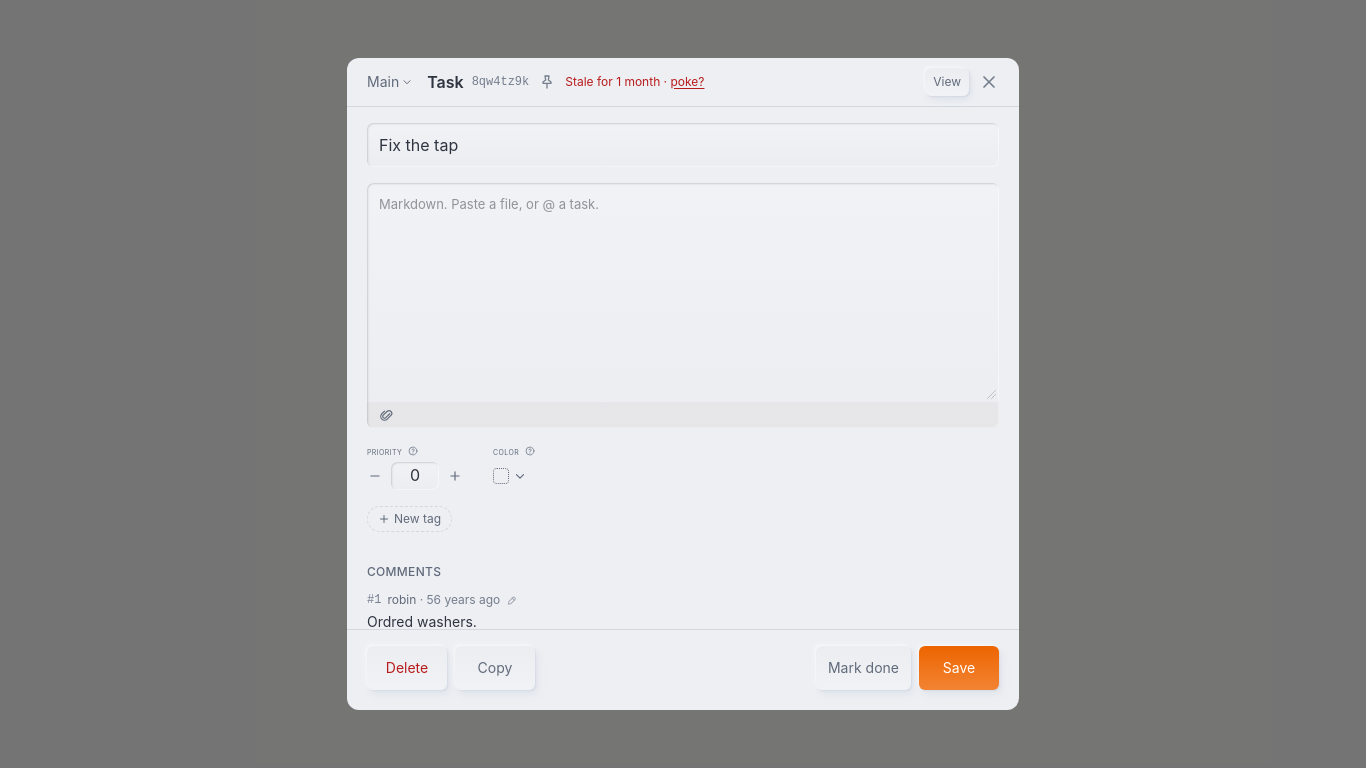
Test case: comments › edits one in a dialog of its own, and shows the new words once saved
Click the button named "Edit comment".
click(512, 600)  # box [506,594,518,606]
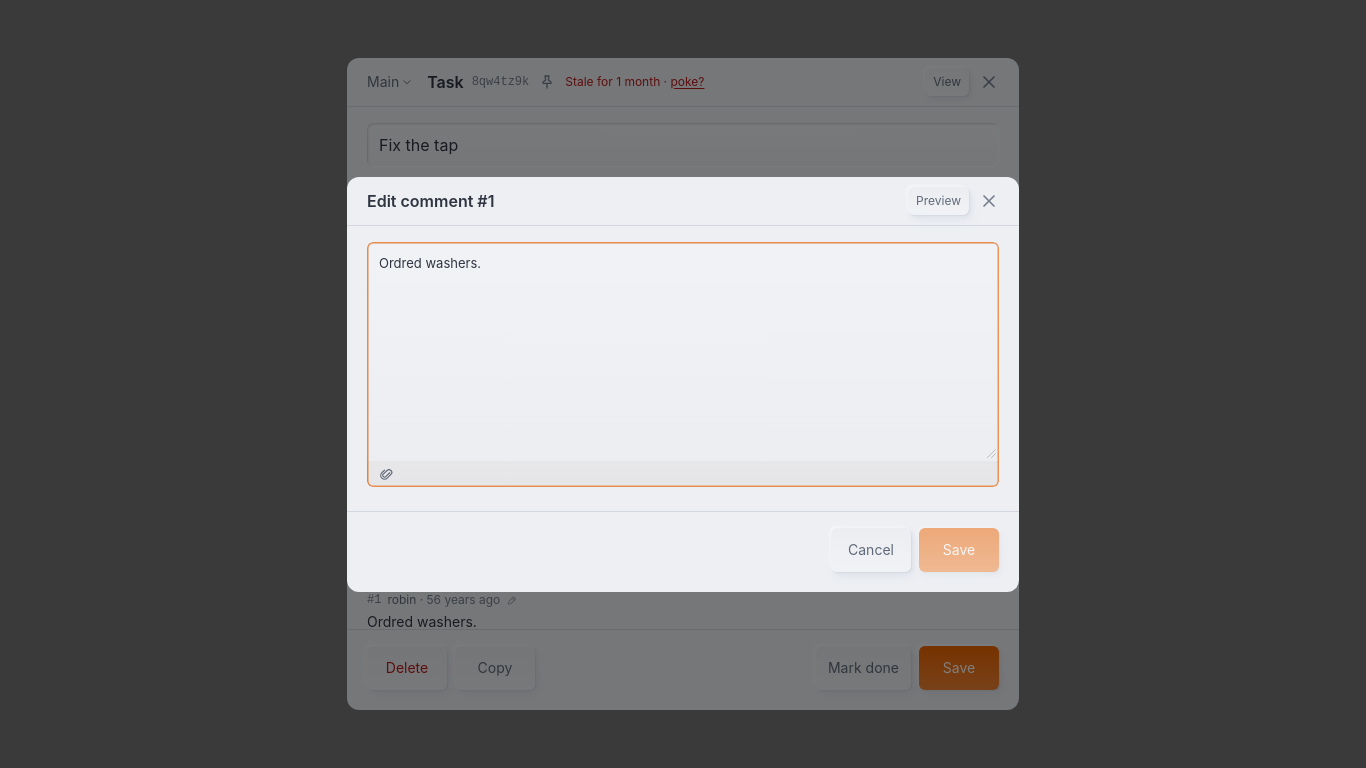
Check: the heading "Edit comment #1" is shown, box [367,188,494,212]
Check: the text box with placeholder "Comment. Markdown; Ctrl+Enter sends." holds "Ordred washers."
Check: the button "Save" is disabled, box [919,528,999,572]
Replace the text in the text box with placeholder "Comment. Markdown; Ctrl+Enter sends." with "Ordered washers." at (683, 351), box [367,242,999,460]
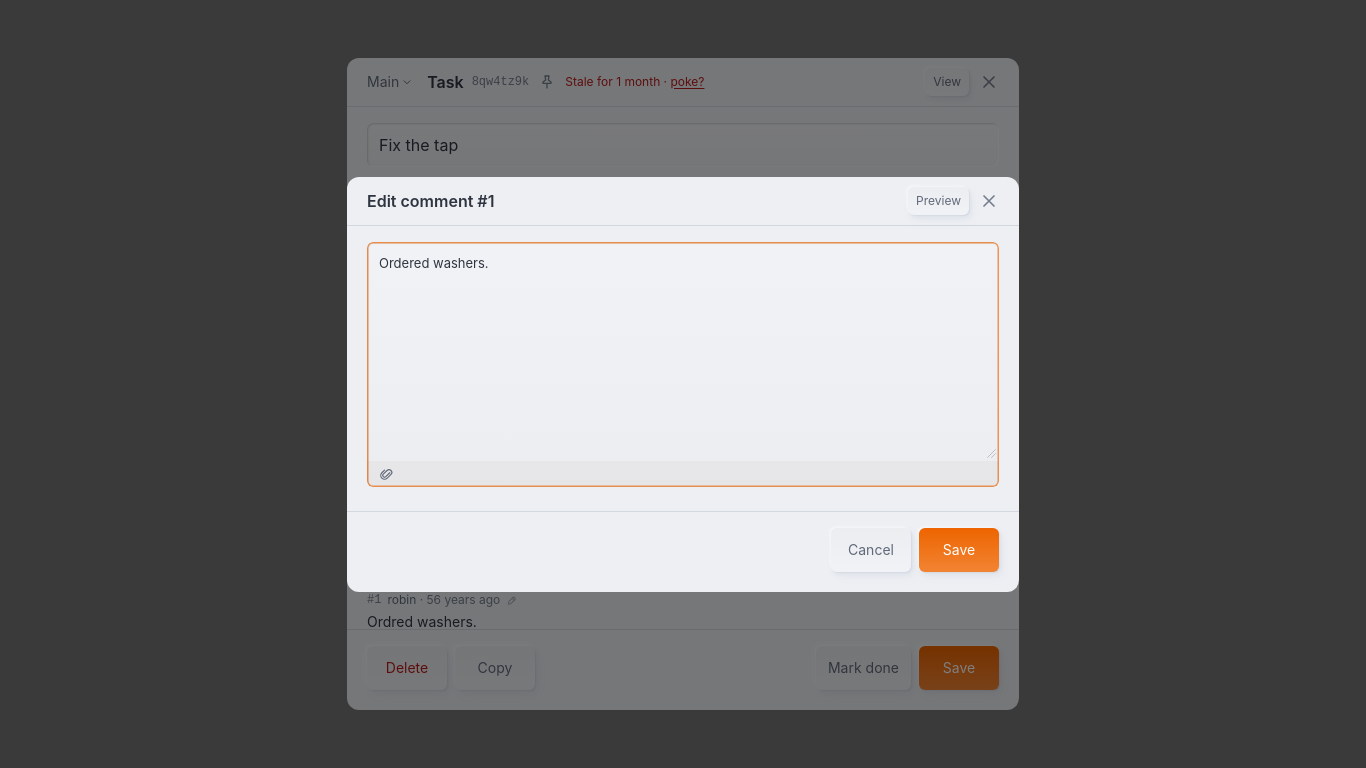
Click the button "Save".
click(959, 550)  # box [919,528,999,572]
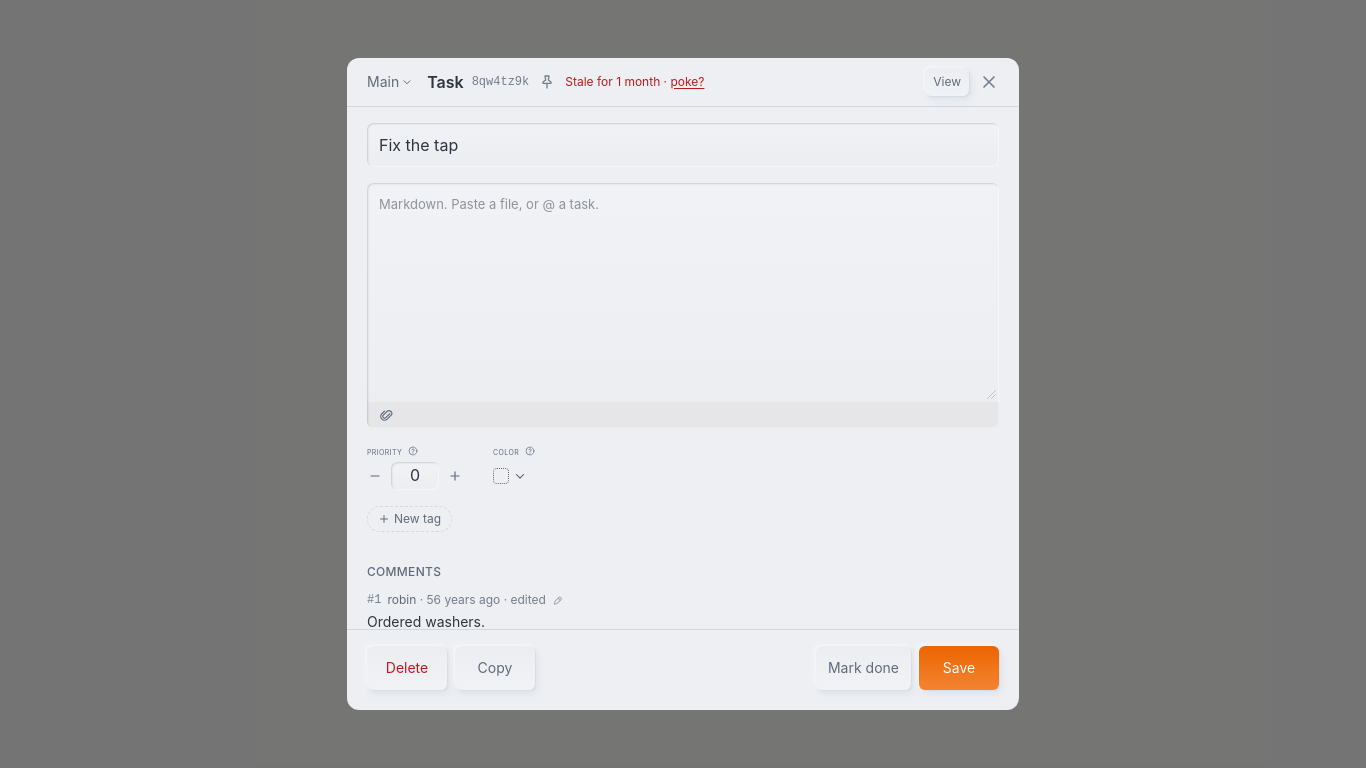
Check: the heading "Edit comment #1" is gone
Check: the list item shows "· edited", box [500,592,546,607]
